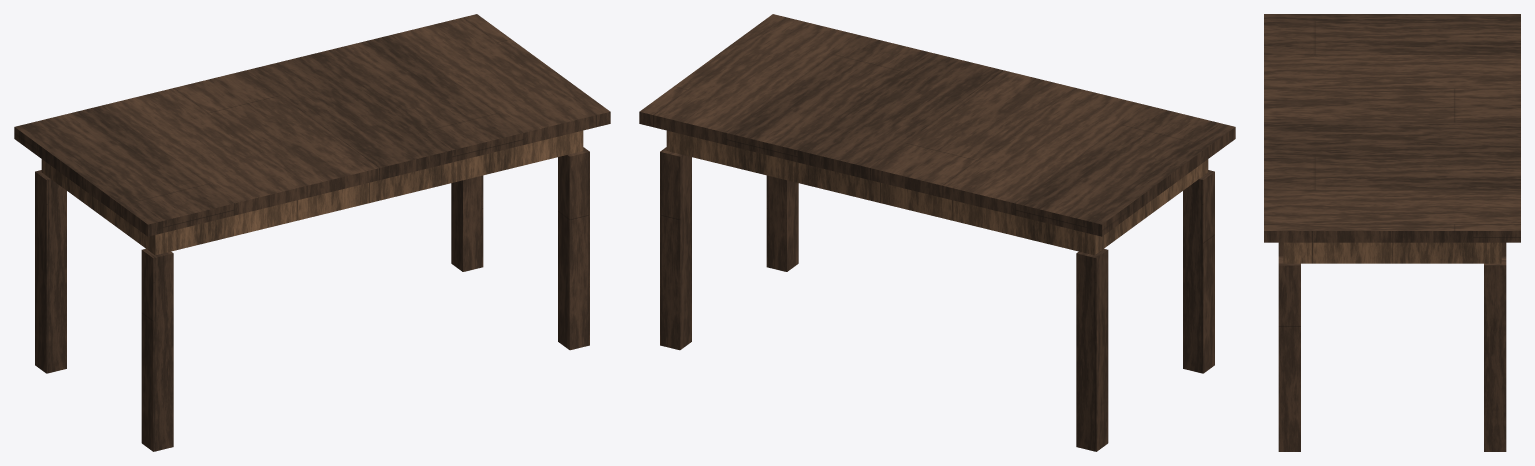
Rendered from PRP_Mesa.fbx.
3 renders of one model, left to right at view 1: azimuth 30°, elevation 25°; view 2: azimuth 150°, elevation 25°; view 3: azimuth 270°, elevation 25°, orthographic. The views are drawn at different scales.
Visible parts, largest first — view 1: PRP_Mesa; view 2: PRP_Mesa; view 3: PRP_Mesa.
Boxes of the visible parts, x1=… form: PRP_Mesa: x1=14, y1=14, x2=610, y2=451; PRP_Mesa: x1=639, y1=14, x2=1235, y2=451; PRP_Mesa: x1=1264, y1=14, x2=1520, y2=451.
Bounding box in the file's own units: 1.6 × 0.78 × 0.8.
